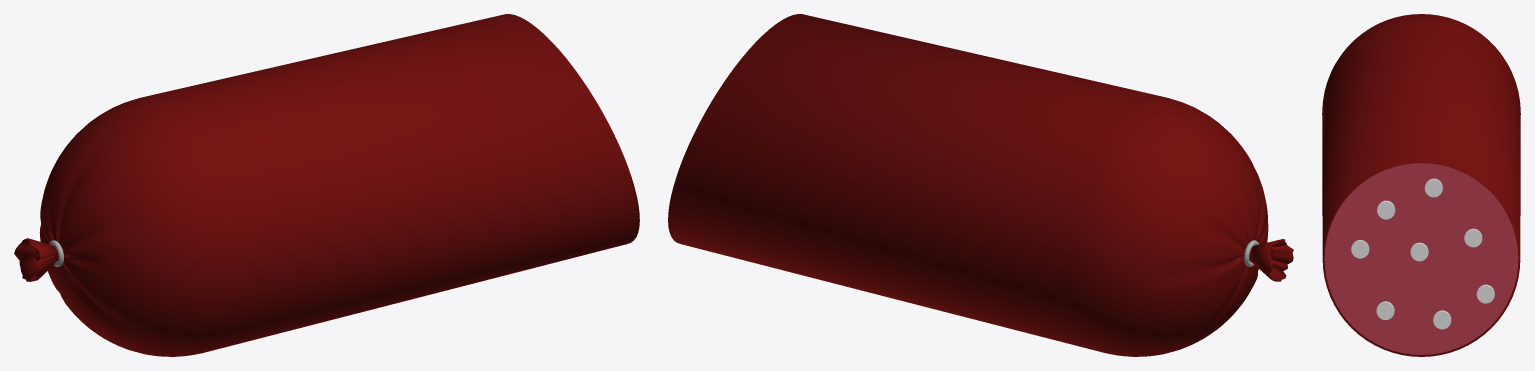
Rendered from madstore_salami.fbx.
The picture shows the model from 3 angles, left to right: view 1: azimuth 30°, elevation 25°; view 2: azimuth 150°, elevation 25°; view 3: azimuth 270°, elevation 25°; orthographic projection. The views are drawn at different scales.
Visible parts, largest first — view 1: Cylinder; view 2: Cylinder; view 3: Cylinder.
Boxes of the visible parts, left/top/right/bottom form: Cylinder: left=14, top=14, right=639, bottom=356; Cylinder: left=668, top=14, right=1293, bottom=356; Cylinder: left=1322, top=14, right=1520, bottom=356.
Size of the model in its own units: 506 by 200 by 200.
